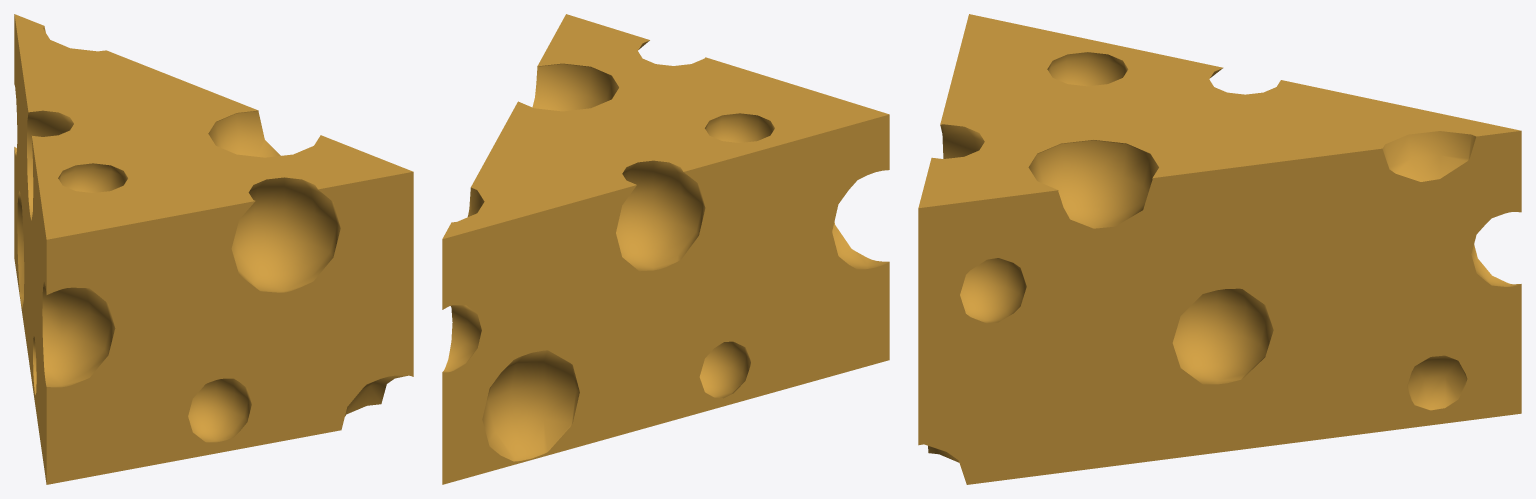
Rendered from Käse.fbx.
3 renders of one model, left to right at view 1: azimuth 30°, elevation 25°; view 2: azimuth 150°, elevation 25°; view 3: azimuth 270°, elevation 25°, orthographic. The views are drawn at different scales.
Parts seen in each view (by area): view 1: Boole_1; view 2: Boole_1; view 3: Boole_1.
Boxes of the visible parts, x1,y1,x2,y2 form: Boole_1: (14,14,413,484); Boole_1: (442,14,889,484); Boole_1: (918,14,1521,484).
Bounding box in the file's own units: 83.2 × 56.5 × 109.
